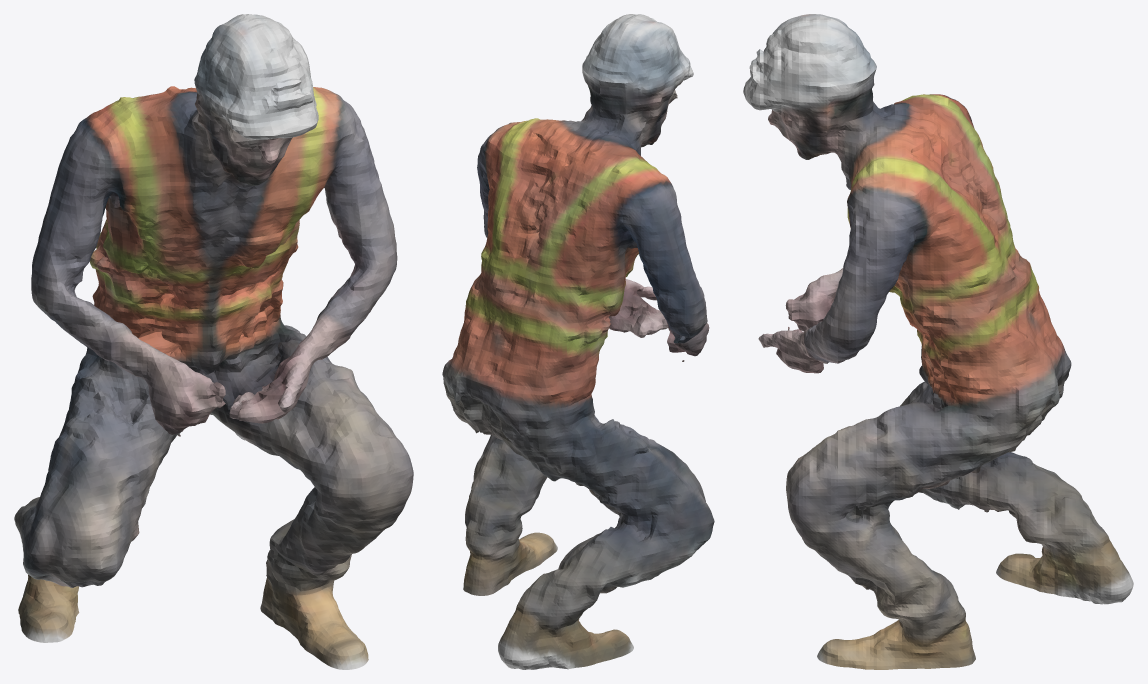
File: standup_6.glb
3 renders of one model, left to right at view 1: azimuth 30°, elevation 25°; view 2: azimuth 150°, elevation 25°; view 3: azimuth 270°, elevation 25°, orthographic. The views are drawn at different scales.
Parts seen in each view (by area): view 1: world; view 2: world; view 3: world.
Part boxes in pixels (x1=…): world: x1=14, y1=14, x2=413, y2=669; world: x1=442, y1=14, x2=714, y2=669; world: x1=743, y1=14, x2=1133, y2=669.
Size of the model in its own units: 0.7248 by 1.45 by 0.8627.
